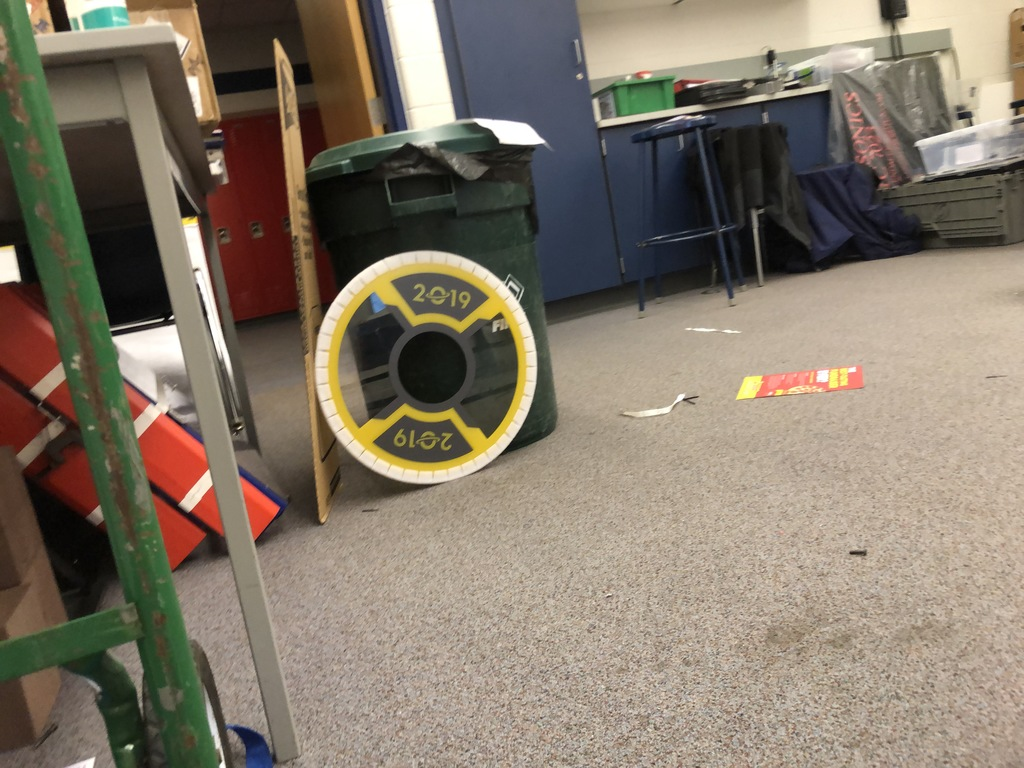hatch_panel: (301, 230, 552, 505)
